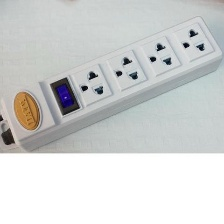three_eye_plug: (0, 13, 224, 153)
